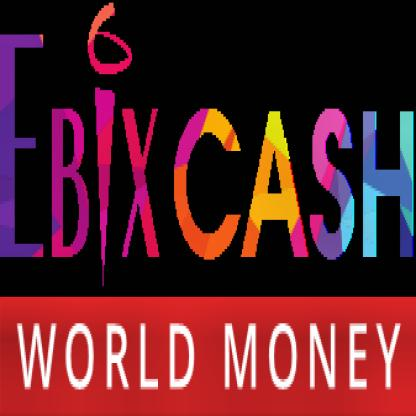EBIX Cash: (0, 0, 412, 291)
